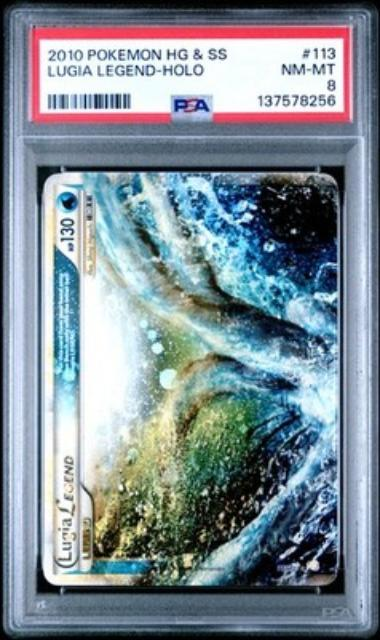Card: (38, 168, 345, 592)
Name: (52, 446, 81, 568)
